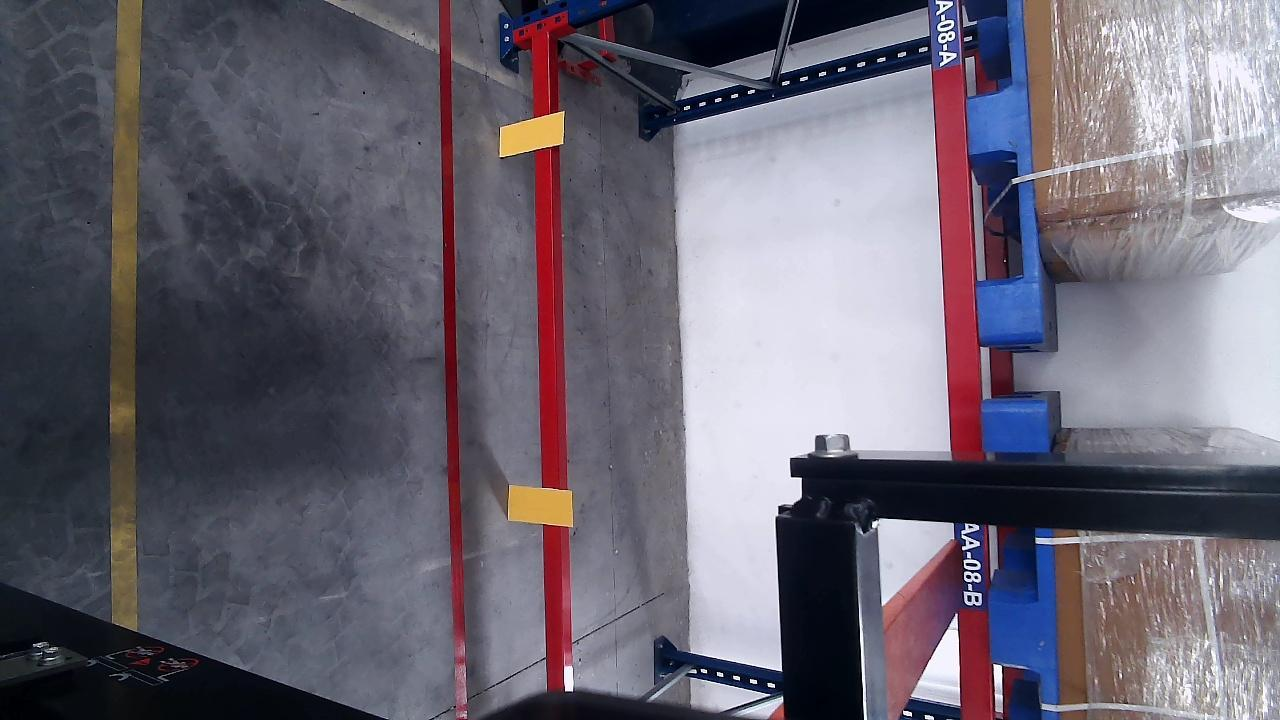h_rack: (925, 0, 994, 720), (528, 33, 564, 689)
orange_strip: (497, 114, 564, 157), (508, 483, 573, 526)
red_line: (436, 0, 470, 720)
small_pallet: (958, 0, 1042, 340), (982, 410, 1061, 719)
